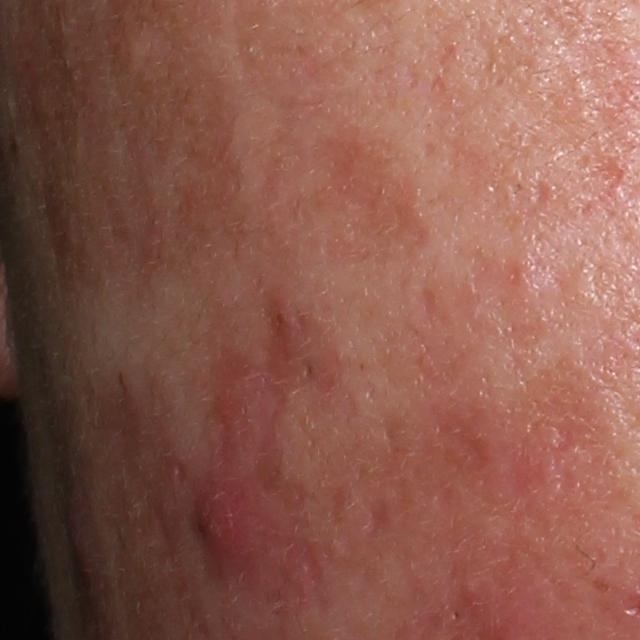papule: (185, 469, 256, 582)
